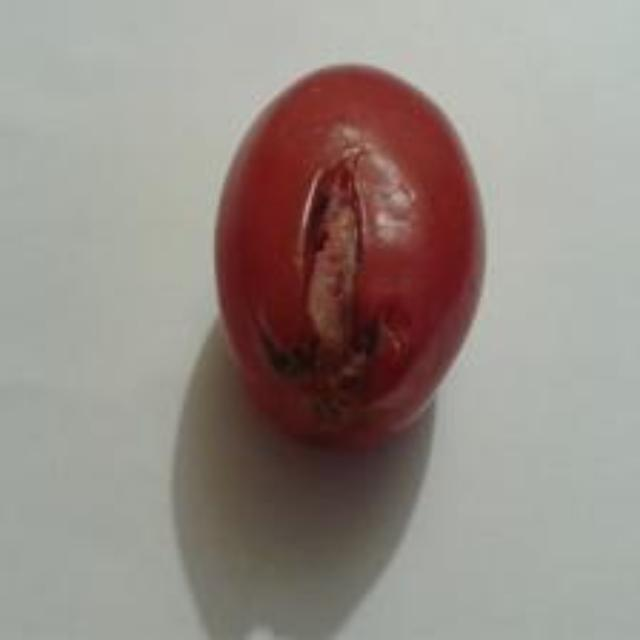defect: (211, 48, 497, 463)
